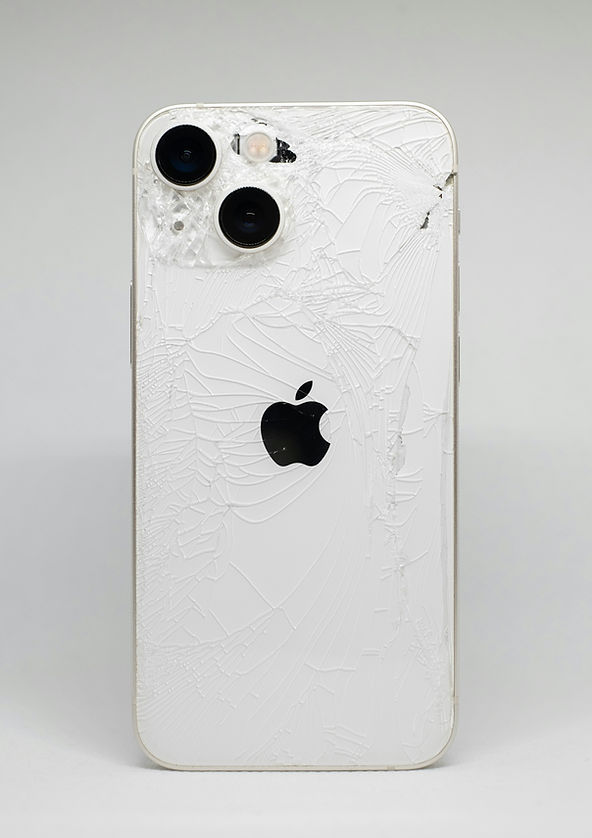crack_phone: (114, 82, 488, 789)
